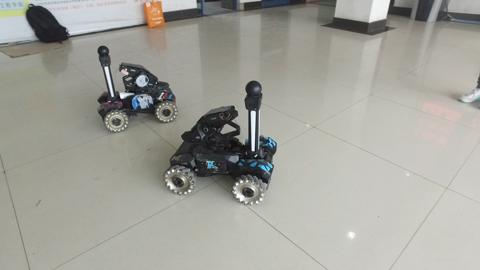bag: (25, 3, 75, 46)
chariot: (157, 77, 289, 208), (87, 39, 181, 134)
